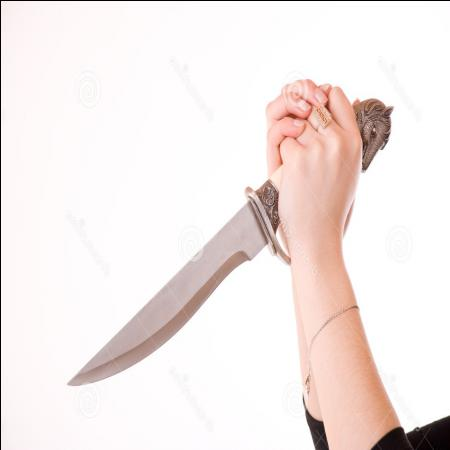long weapon: (57, 74, 342, 390)
